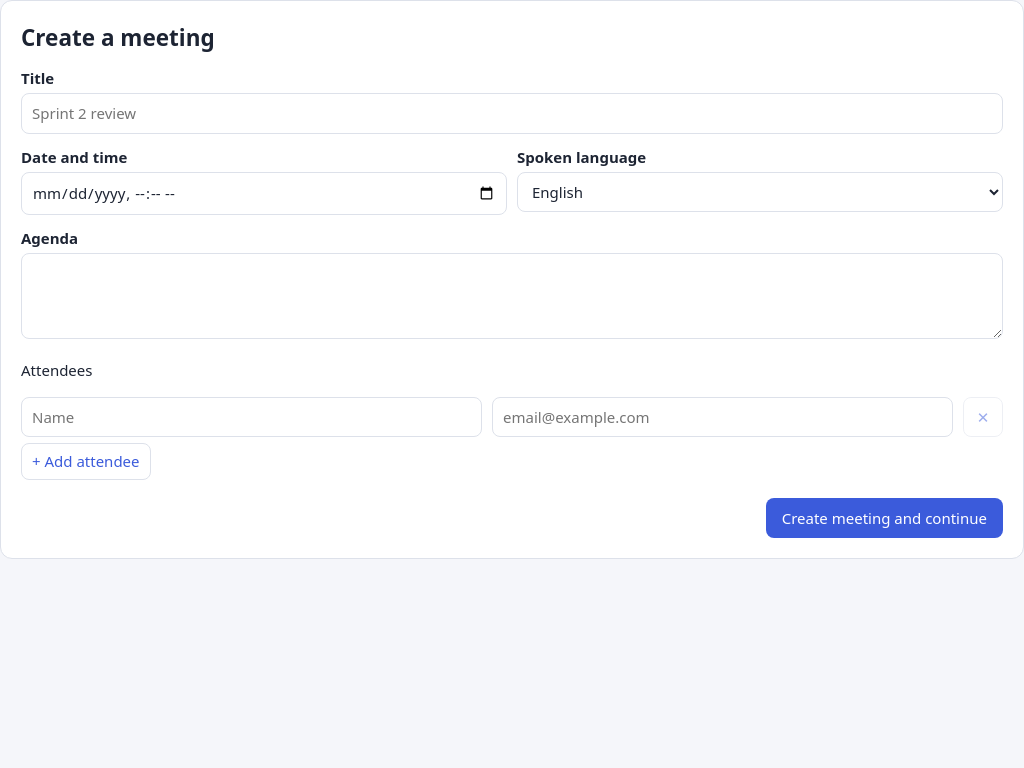
Test: UI and usability › blocks empty forms and explains required details
The width and height of the screenshot is (1024, 768).
Click the button "Create meeting and continue" at (884, 518), box top-left (766, 498), bottom-right (1003, 538)
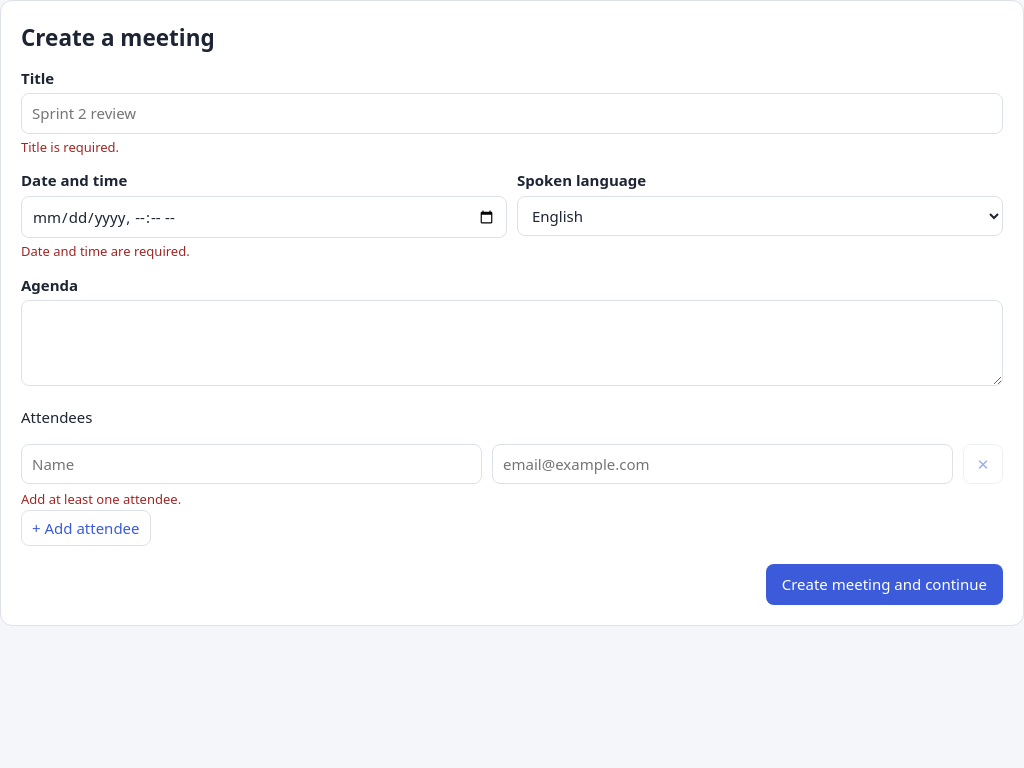
Result: the text "Title is required." is shown at top-left (21, 138), bottom-right (119, 156)
